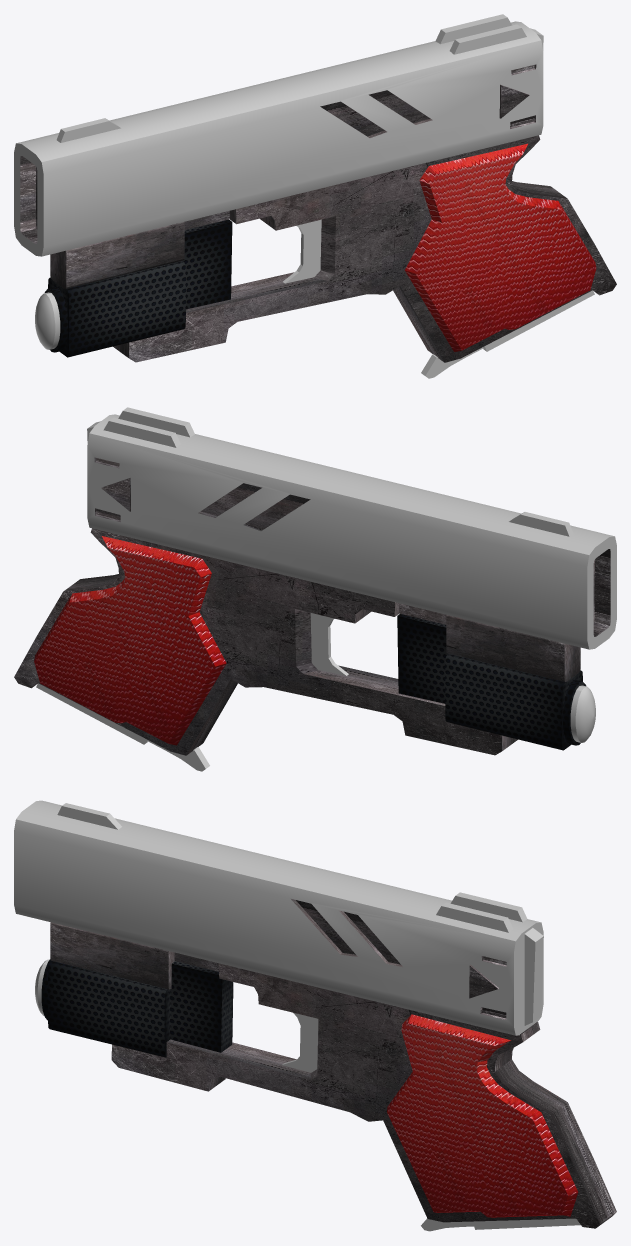
The model's file is Pistola.fbx.
The picture shows the model from 3 angles, top to bottom: view 1: azimuth 30°, elevation 25°; view 2: azimuth 150°, elevation 25°; view 3: azimuth 330°, elevation 25°; orthographic projection.
Parts seen in each view (by area): view 1: Object427; view 2: Object427; view 3: Object427.
Part boxes in pixels (x1=…): Object427: x1=14, y1=14, x2=616, y2=378; Object427: x1=14, y1=407, x2=616, y2=771; Object427: x1=14, y1=800, x2=616, y2=1231.
Bounding box in the file's own units: 0.9988 × 0.5518 × 0.0943.
